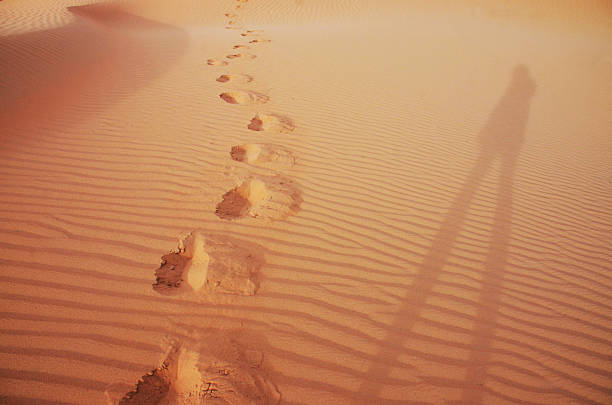animal_foot_print: (118, 330, 280, 404), (153, 231, 264, 294), (216, 175, 302, 219), (230, 143, 294, 169), (247, 113, 294, 132), (219, 90, 268, 104), (216, 74, 252, 82), (240, 29, 263, 36), (226, 53, 256, 58), (207, 58, 227, 65), (249, 38, 270, 43), (232, 44, 249, 48)
